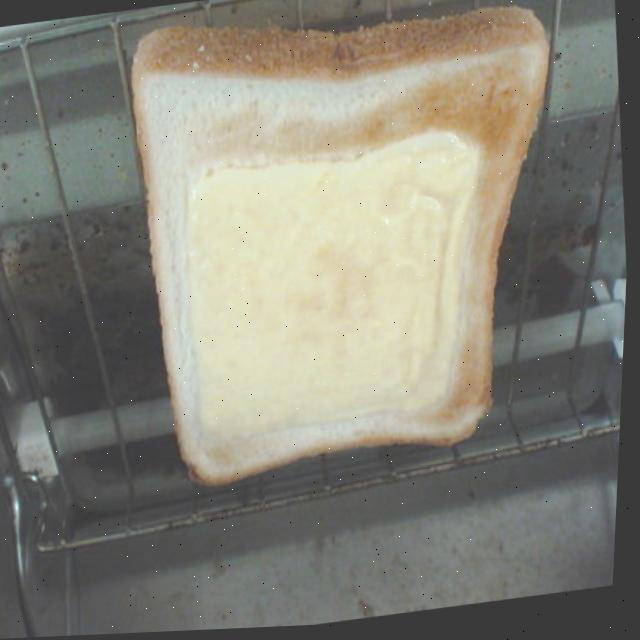面包点心: (16, 0, 571, 482)
